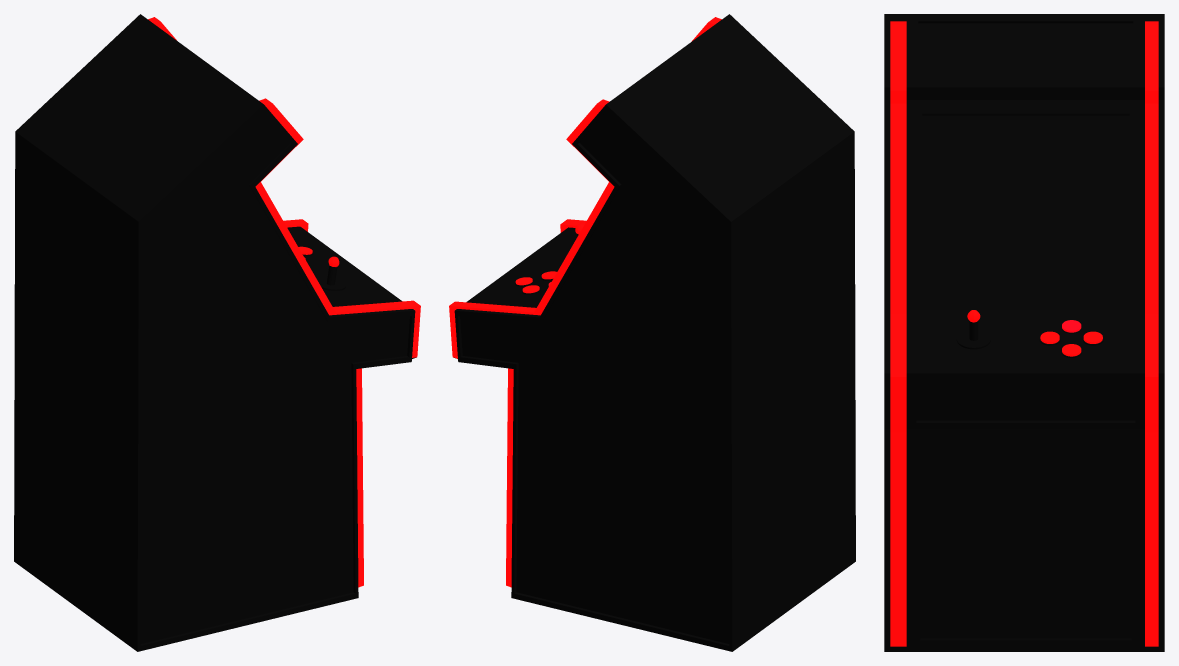
File: Arcade Machine Red.glb
3 renders of one model, left to right at view 1: azimuth 30°, elevation 25°; view 2: azimuth 150°, elevation 25°; view 3: azimuth 270°, elevation 25°, orthographic. The views are drawn at different scales.
Parts seen in each view (by area): view 1: Arcade Machine RED; view 2: Arcade Machine RED; view 3: Arcade Machine RED.
Boxes of the visible parts, bbox=[...] form: Arcade Machine RED: bbox=[14, 14, 420, 651]; Arcade Machine RED: bbox=[449, 14, 855, 651]; Arcade Machine RED: bbox=[884, 14, 1164, 651].
Bounding box in the file's own units: 1.74 × 3 × 1.3.
